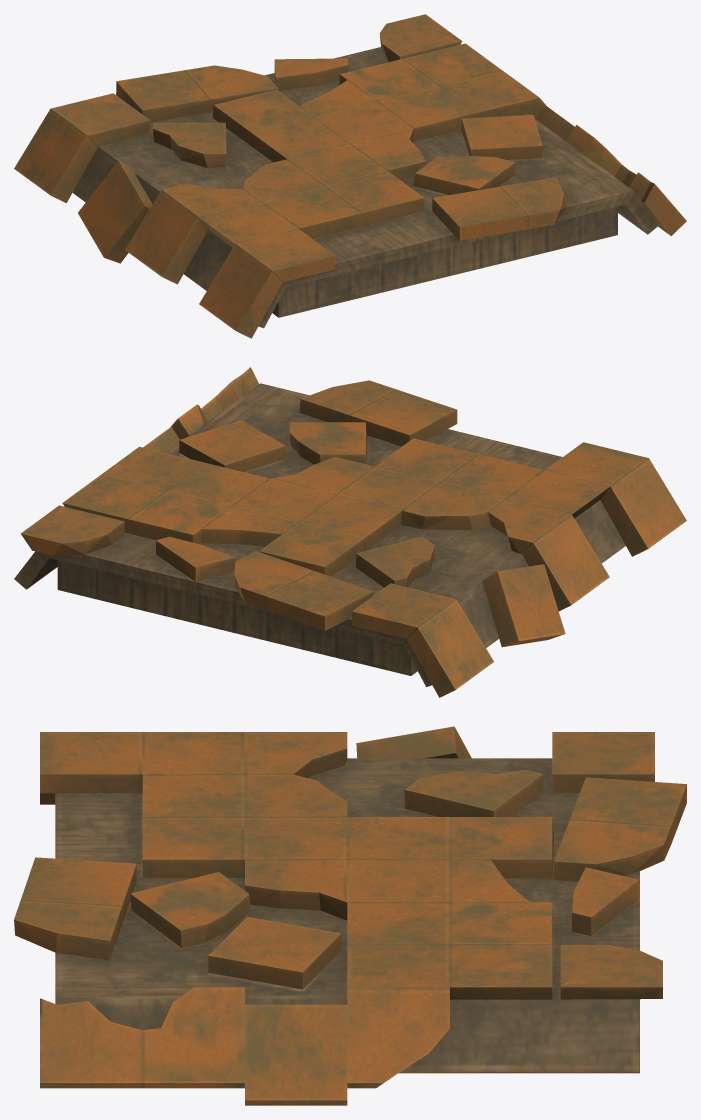
The model's file is sb_obj_outdoor029_house01_roof_b_ruins.fbx.
3 views of the same model, one above another, from view 1: azimuth 30°, elevation 25°; view 2: azimuth 150°, elevation 25°; view 3: azimuth 270°, elevation 25° (orthographic). The views are drawn at different scales.
Parts seen in each view (by area): view 1: sb_obj_outdoor029_house01_roof_b_ruins; view 2: sb_obj_outdoor029_house01_roof_b_ruins; view 3: sb_obj_outdoor029_house01_roof_b_ruins.
Part boxes in pixels (box(x1,y1,x2,y2)): sb_obj_outdoor029_house01_roof_b_ruins: box(14, 14, 686, 338); sb_obj_outdoor029_house01_roof_b_ruins: box(14, 367, 686, 697); sb_obj_outdoor029_house01_roof_b_ruins: box(14, 726, 686, 1105).
Size of the model in its own units: 4.11 by 0.6645 by 3.72.
